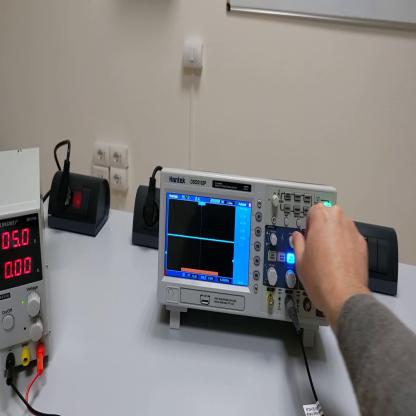hand: (294, 202, 372, 315)
oscilloscope: (159, 166, 340, 346)
power supply: (1, 145, 53, 374)
socket: (48, 172, 114, 241), (129, 185, 160, 251)
